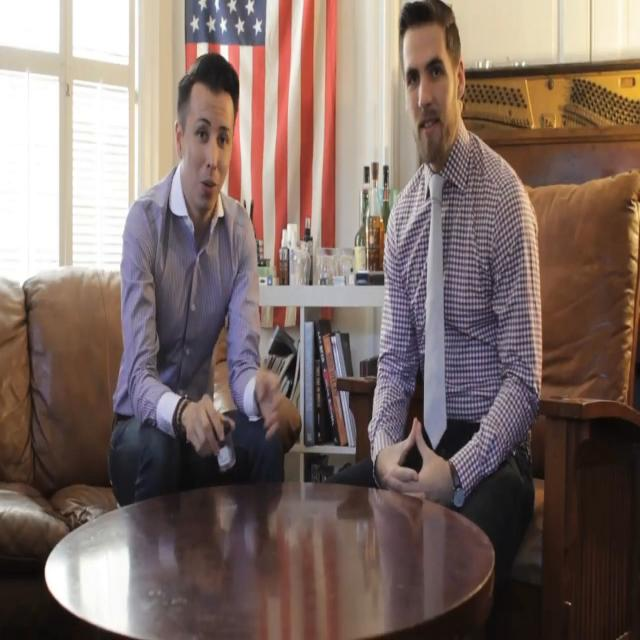Shirt: (368, 114, 544, 501), (110, 158, 264, 444)
